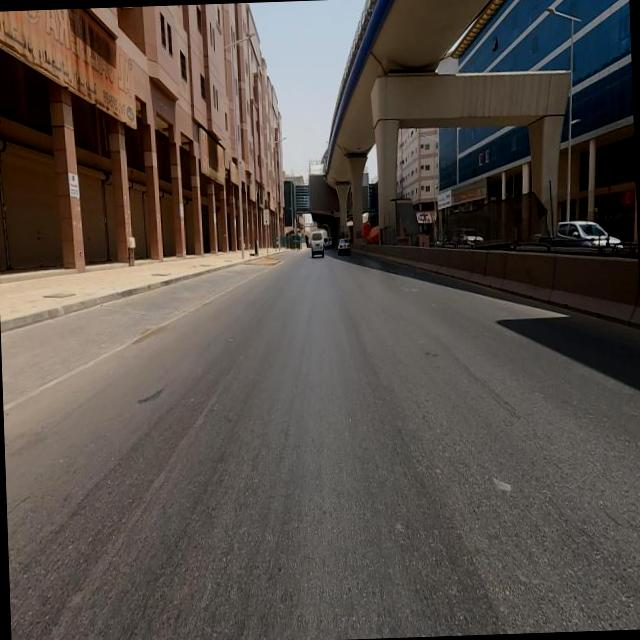debris: (0, 4, 193, 179)
